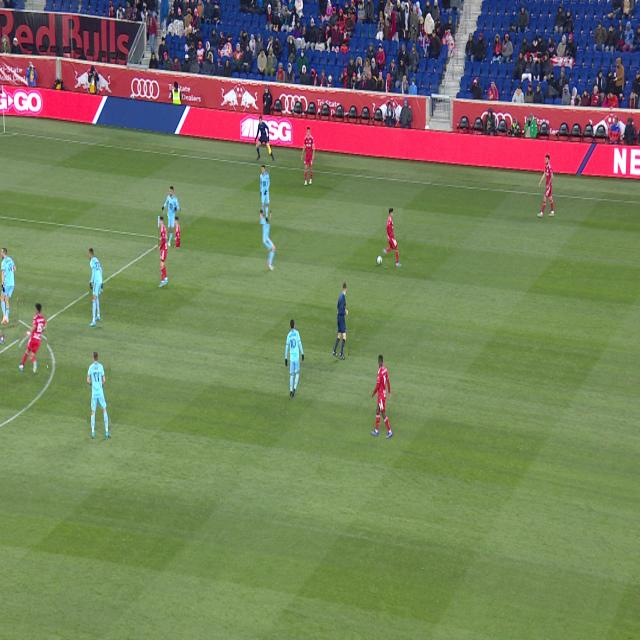football: (377, 256, 382, 265)
player: (87, 352, 111, 439), (20, 304, 47, 373), (371, 355, 392, 438), (285, 319, 304, 398), (1, 248, 17, 325), (383, 209, 402, 267), (162, 186, 180, 247), (89, 249, 103, 327), (537, 155, 554, 217), (301, 126, 315, 186), (263, 210, 276, 271), (159, 217, 168, 287), (260, 165, 270, 224), (0, 335, 4, 344)
referee: (333, 283, 348, 360)
